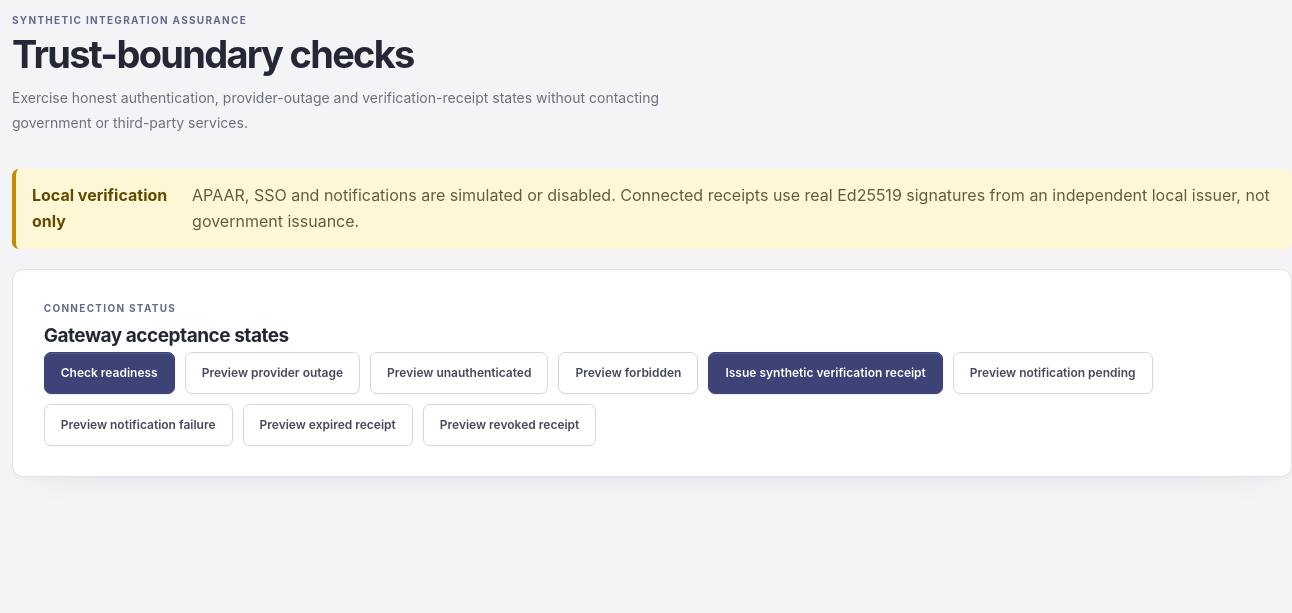
Test case: IntegrationWorkspace › renders the Preview unauthenticated access state
The width and height of the screenshot is (1292, 613).
Click the button "Preview unauthenticated" at (459, 373), box 370,352 -> 548,394
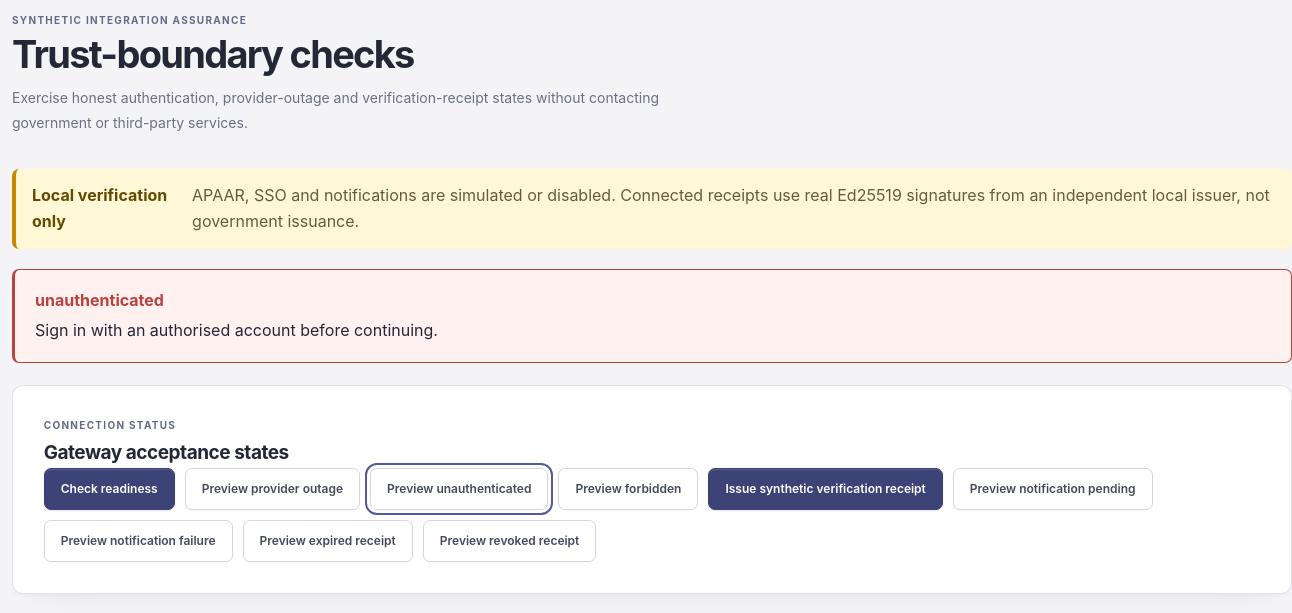
Check: the message shows "unauthenticated", box 35,290 -> 164,310
Check: the message shows "Sign in", box 35,320 -> 438,340
